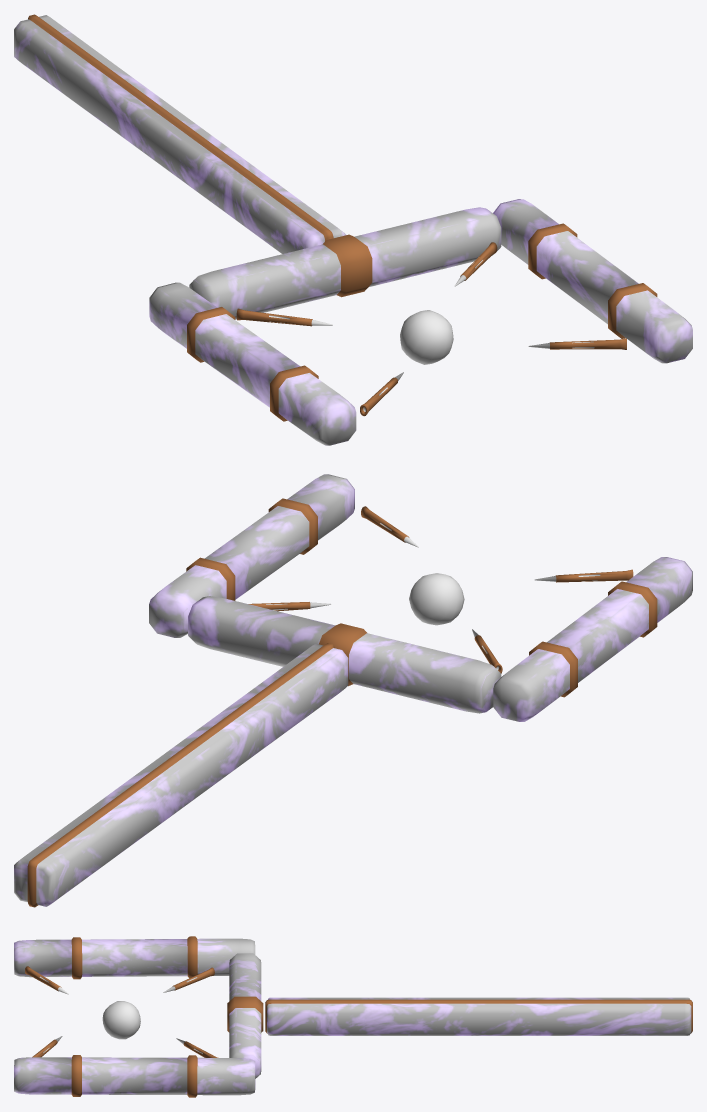
Rendered from Wand.fbx.
The picture shows the model from 3 angles, top to bottom: view 1: azimuth 30°, elevation 25°; view 2: azimuth 150°, elevation 25°; view 3: azimuth 270°, elevation 25°; orthographic projection. The views are drawn at different scales.
Visible parts, largest first — view 1: WandLP; view 2: WandLP; view 3: WandLP.
Boxes of the visible parts, x1=… form: WandLP: x1=14, y1=14, x2=692, y2=445; WandLP: x1=14, y1=474, x2=692, y2=907; WandLP: x1=14, y1=936, x2=692, y2=1097.
Bounding box in the file's own units: 68.61 × 9.21 × 147.
